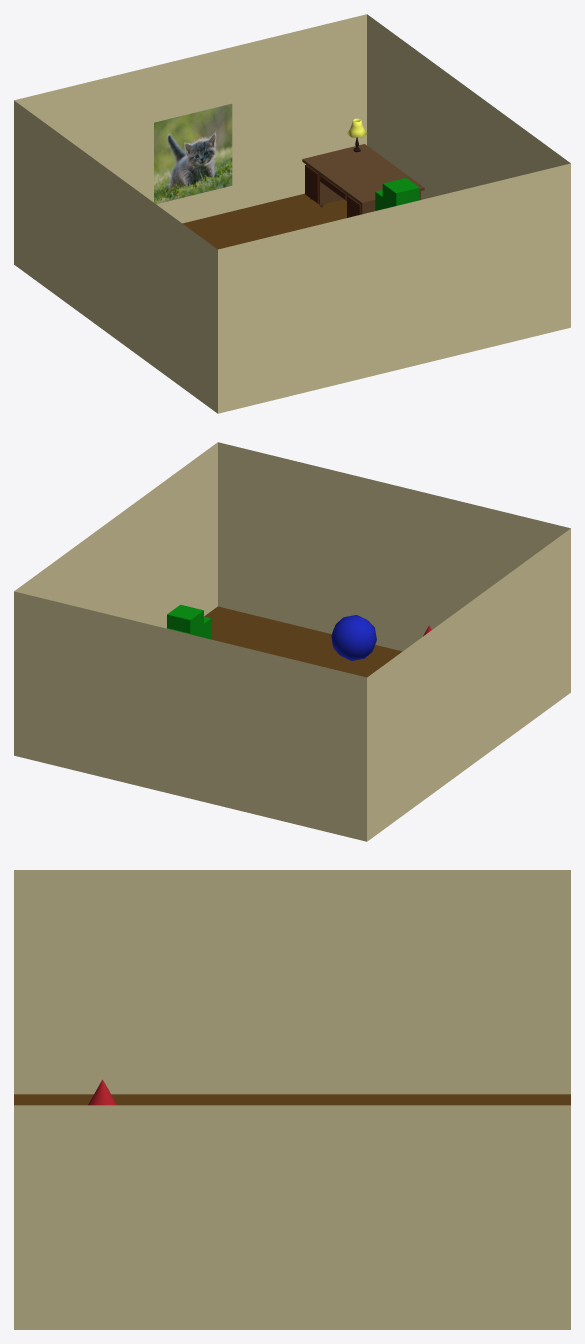
3 renders of one model, top to bottom at view 1: azimuth 30°, elevation 25°; view 2: azimuth 150°, elevation 25°; view 3: azimuth 270°, elevation 25°, orthographic. The views are drawn at different scales.
Parts seen in each view (by area): view 1: South Wall, North Wall, West Wall, East Wall, Plane, Floor, Desk, Doodad; view 2: North Wall, South Wall, West Wall, East Wall, Floor, Sphere, Doodad; view 3: East Wall, West Wall, Floor.
Part boxes in pixels (x1=…): South Wall: x1=218, y1=163, x2=570, y2=413; North Wall: x1=14, y1=14, x2=366, y2=223; West Wall: x1=14, y1=100, x2=217, y2=413; East Wall: x1=367, y1=14, x2=570, y2=199; Plane: x1=154, y1=103, x2=232, y2=204; Floor: x1=182, y1=193, x2=346, y2=249; Desk: x1=302, y1=144, x2=424, y2=214; Doodad: x1=375, y1=178, x2=419, y2=210; North Wall: x1=14, y1=591, x2=366, y2=841; South Wall: x1=218, y1=442, x2=570, y2=651; West Wall: x1=367, y1=528, x2=570, y2=841; East Wall: x1=14, y1=442, x2=217, y2=628; Floor: x1=204, y1=606, x2=402, y2=677; Sphere: x1=331, y1=615, x2=376, y2=660; Doodad: x1=166, y1=604, x2=211, y2=639; East Wall: x1=14, y1=1105, x2=570, y2=1329; West Wall: x1=14, y1=870, x2=570, y2=1094; Floor: x1=14, y1=1094, x2=570, y2=1105.
Size of what is drawn, in the model's own units: 9 by 4 by 9.
11 materials, 1 textured.
